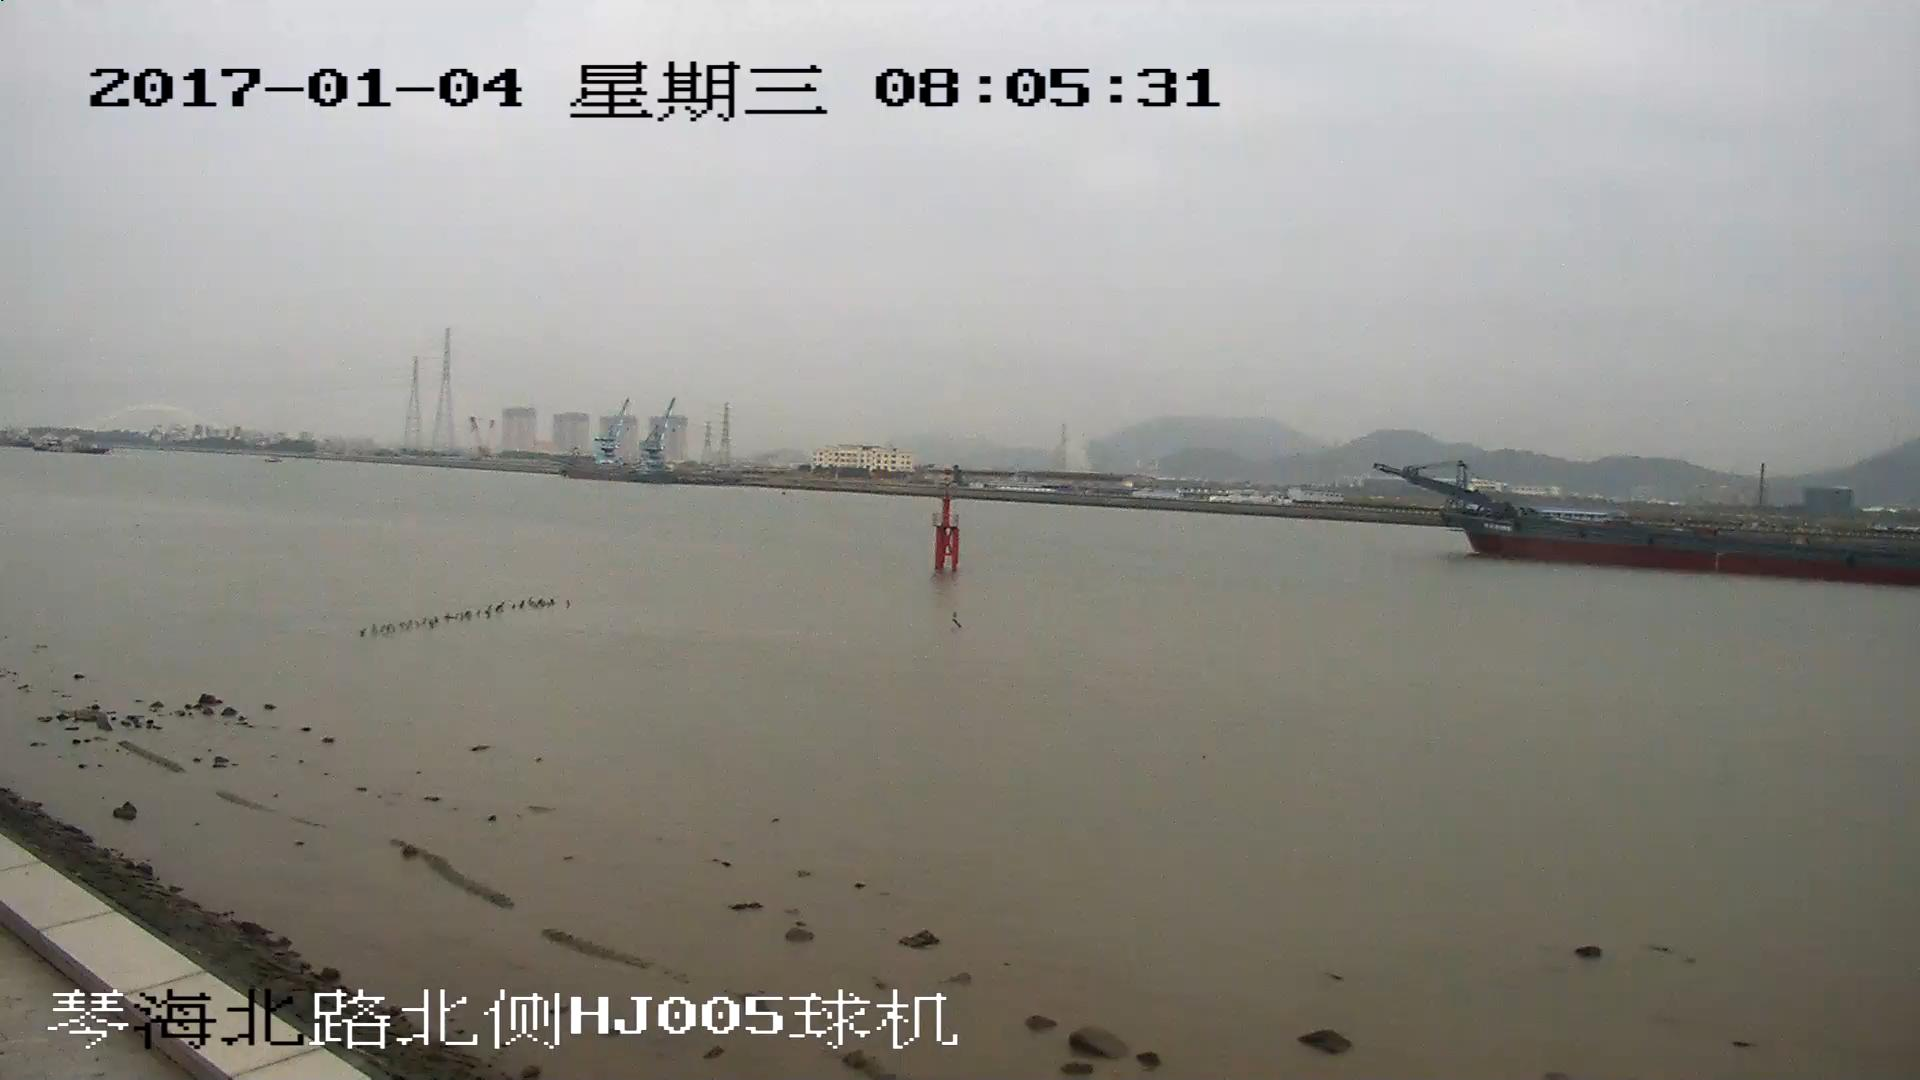bulk cargo carrier: (1376, 463, 1920, 583)
